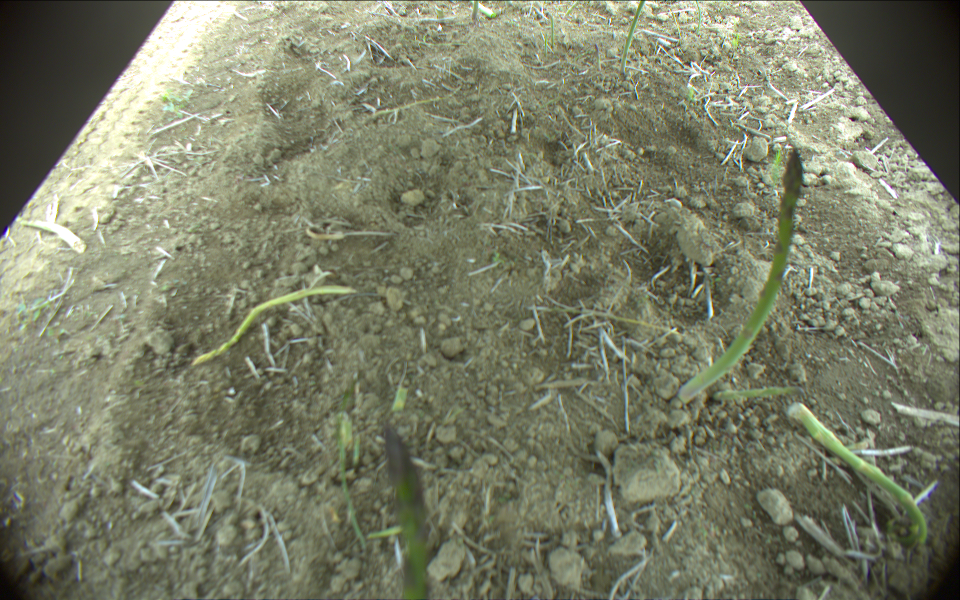aspa: (676, 151, 800, 405), (789, 403, 931, 542), (188, 286, 358, 369), (384, 419, 436, 600), (334, 396, 369, 554), (357, 85, 462, 123), (618, 1, 648, 75), (713, 384, 809, 404), (592, 41, 602, 75), (550, 14, 558, 52), (477, 1, 494, 18), (564, 1, 581, 15), (541, 33, 550, 54), (471, 1, 478, 22)
